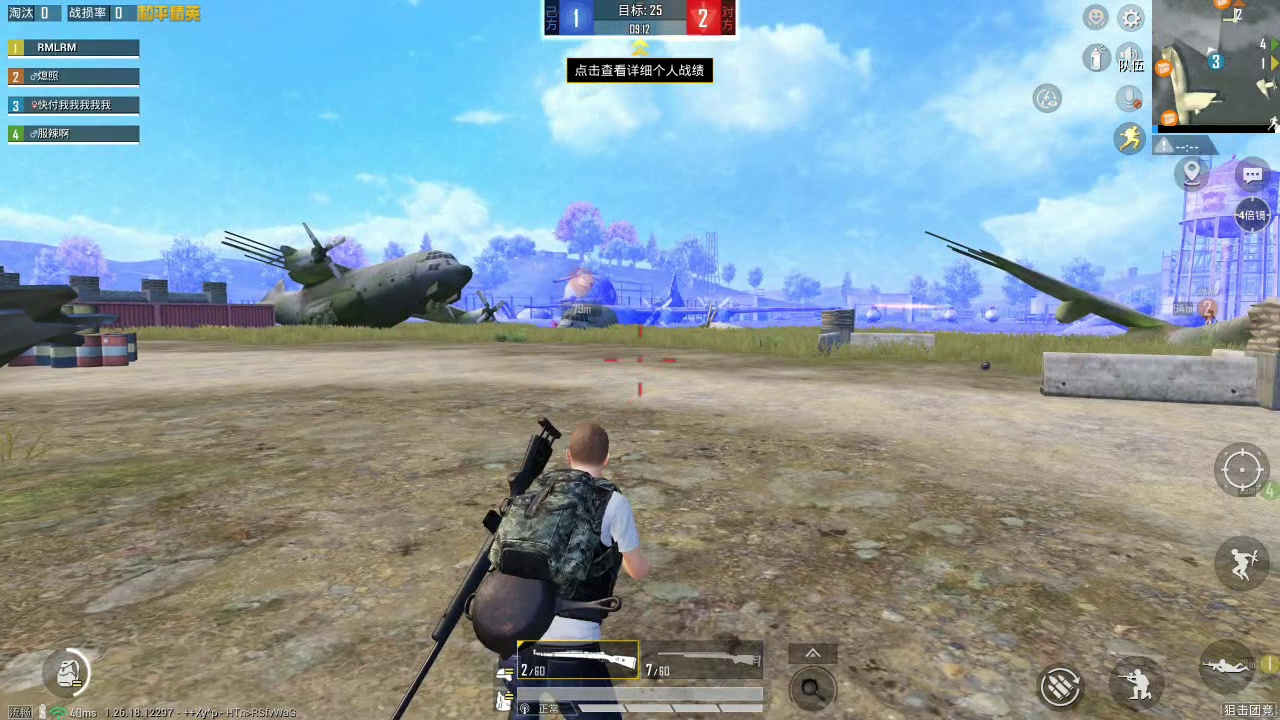enemy: (550, 320, 558, 327)
